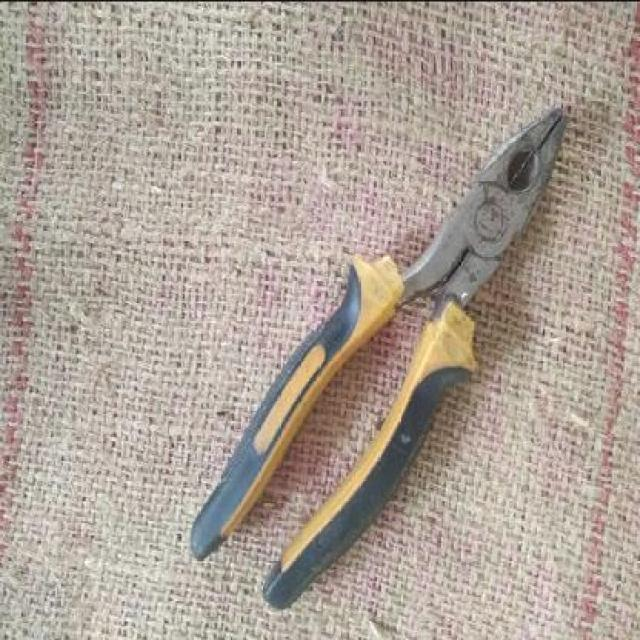pliers: (185, 104, 581, 621)
